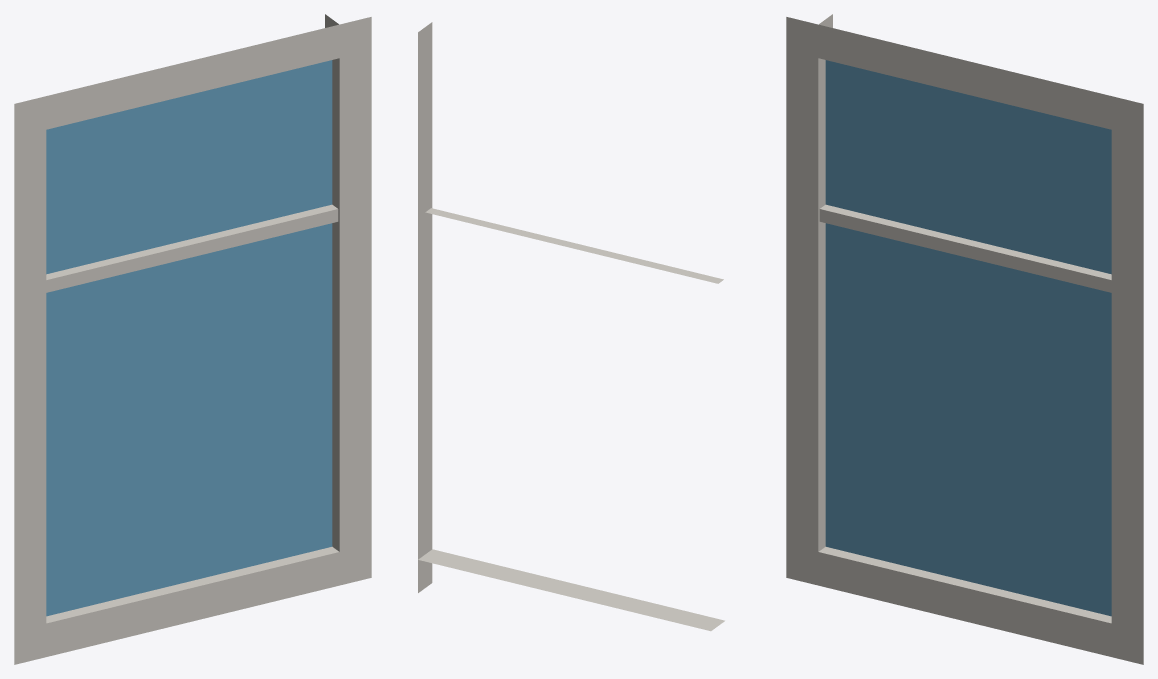
The model's file is window-arch.glb.
3 renders of one model, left to right at view 1: azimuth 30°, elevation 25°; view 2: azimuth 150°, elevation 25°; view 3: azimuth 330°, elevation 25°, orthographic.
Bounding box in the file's own units: 1 × 1.5 × 0.07.
